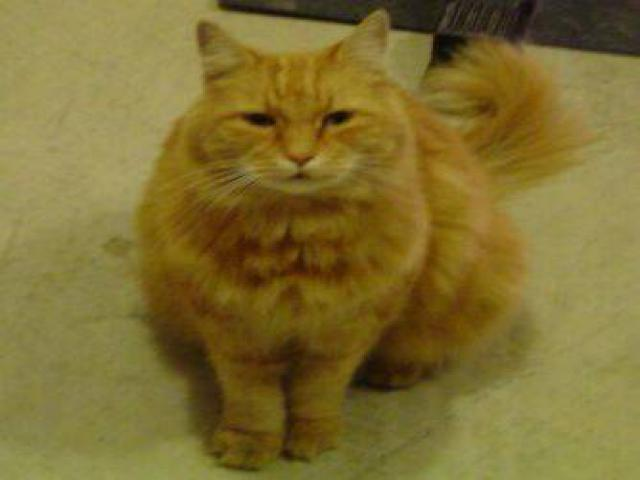cat: (142, 13, 551, 467)
